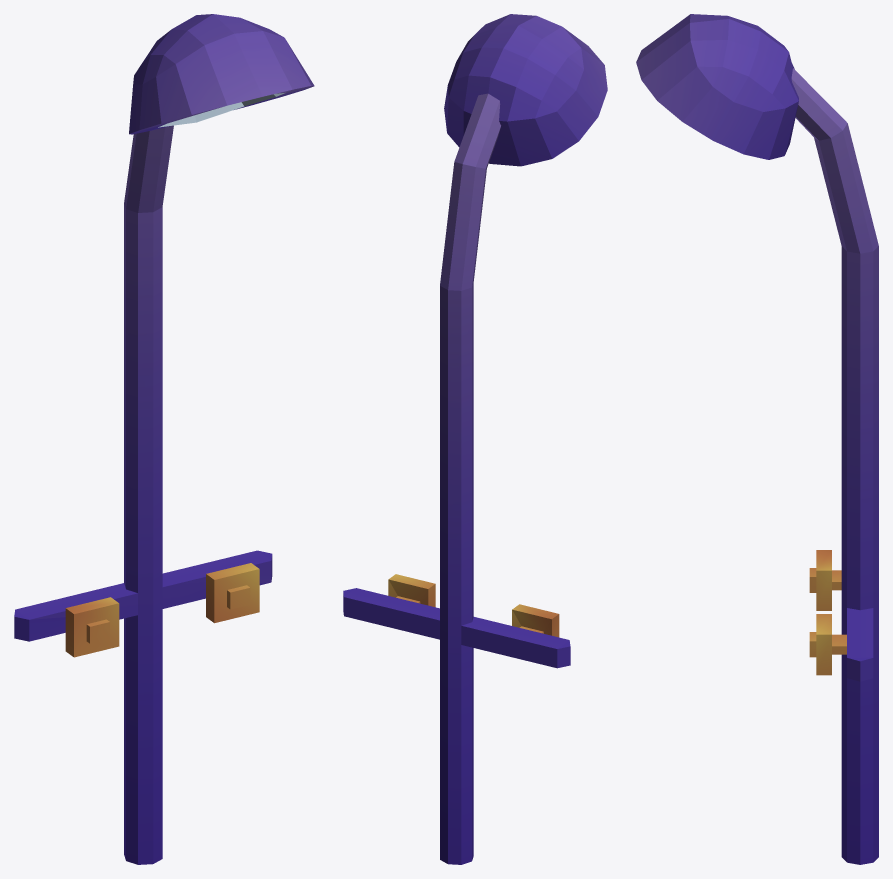
Rendered from sp_shower_handle_a 1.fbx.
3 views of the same model, side by side, from view 1: azimuth 30°, elevation 25°; view 2: azimuth 150°, elevation 25°; view 3: azimuth 270°, elevation 25° (orthographic). The views are drawn at different scales.
Parts seen in each view (by area): view 1: sp_shower_handle_a; view 2: sp_shower_handle_a; view 3: sp_shower_handle_a.
Part boxes in pixels (x1,y1,x2,y2): sp_shower_handle_a: (14, 14, 314, 864); sp_shower_handle_a: (343, 14, 607, 864); sp_shower_handle_a: (636, 14, 878, 864).
Size of the model in its own units: 19.7 by 65.18 by 17.11.
